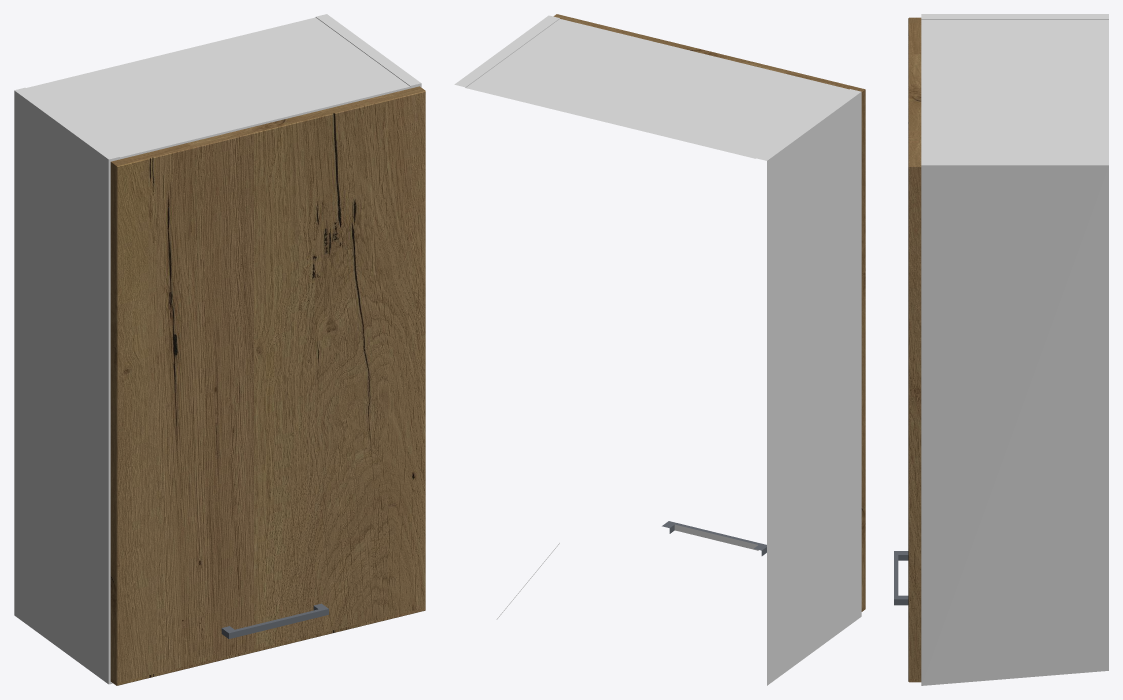
File: gornji_el_50cm.glb
The picture shows the model from 3 angles, left to right: view 1: azimuth 30°, elevation 25°; view 2: azimuth 150°, elevation 25°; view 3: azimuth 270°, elevation 25°; orthographic projection.
Visible parts, largest first — view 1: Model; view 2: Model; view 3: Model.
Part boxes in pixels (x1,y1,x2,y2): Model: [14, 14, 425, 685]; Model: [454, 14, 865, 685]; Model: [894, 14, 1108, 685].
Bounding box in the file's own units: 500 × 802 × 300.
6 materials, 1 textured.
